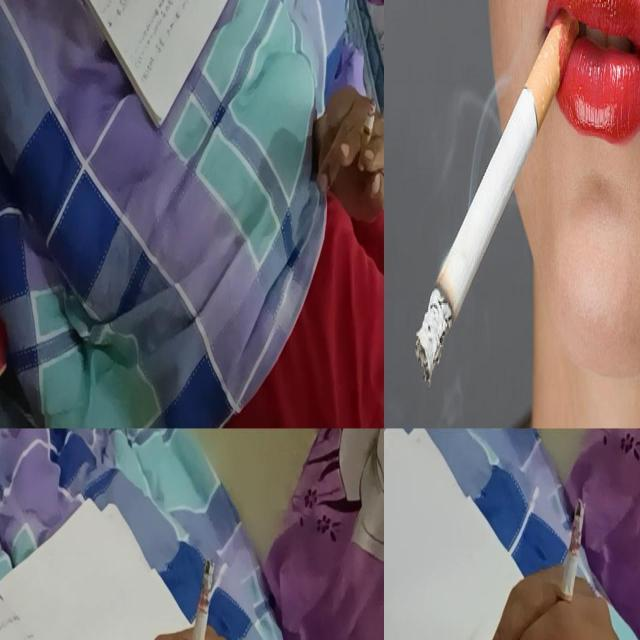smoking: (414, 11, 596, 383), (550, 497, 586, 624), (182, 556, 216, 640), (356, 98, 376, 172)
